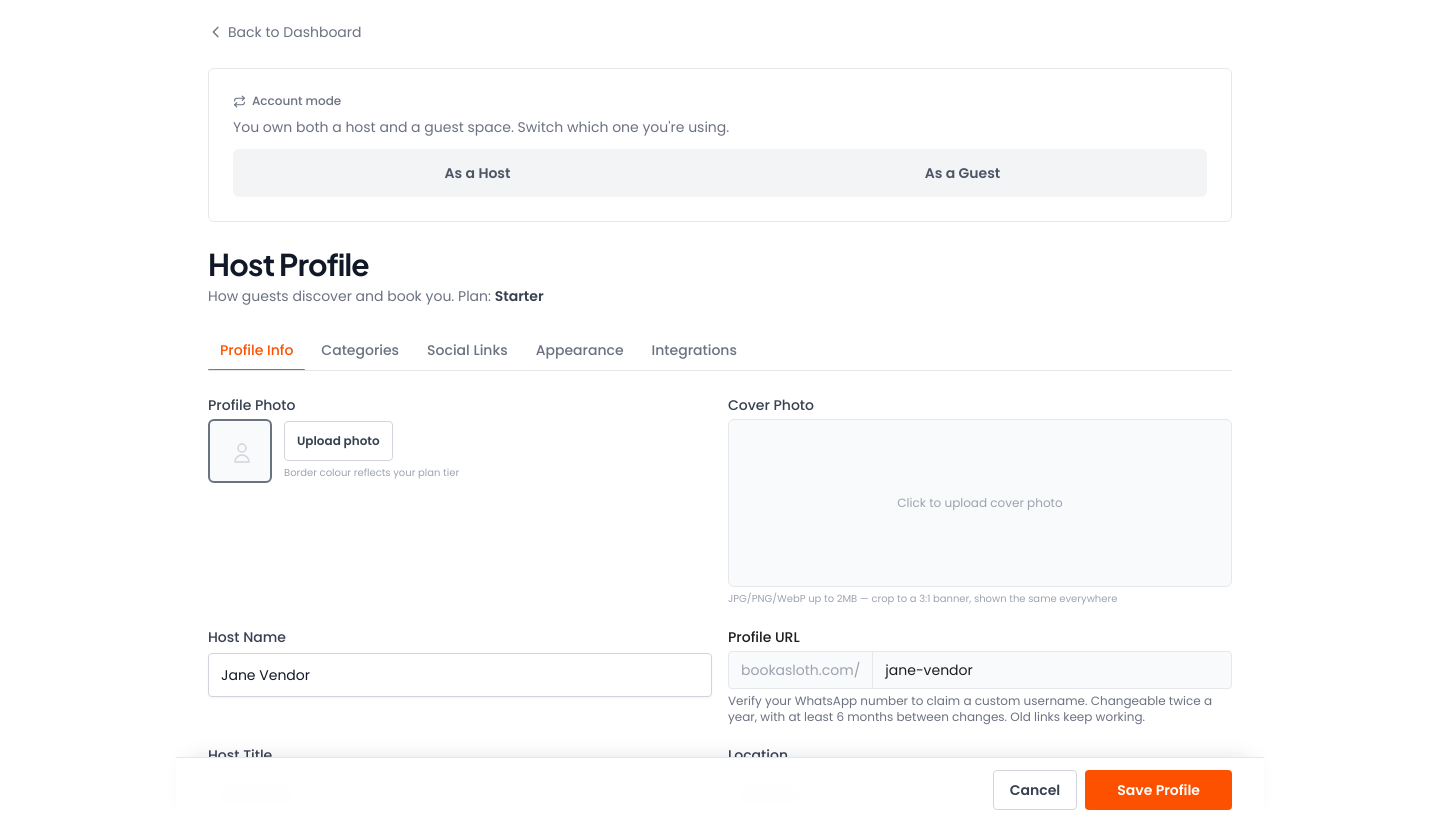
ProfileSetup — tab navigation › clicking Integrations tab shows Google Calendar section
Click the tab "Integrations".
click(694, 350)  # box [640, 330, 749, 370]
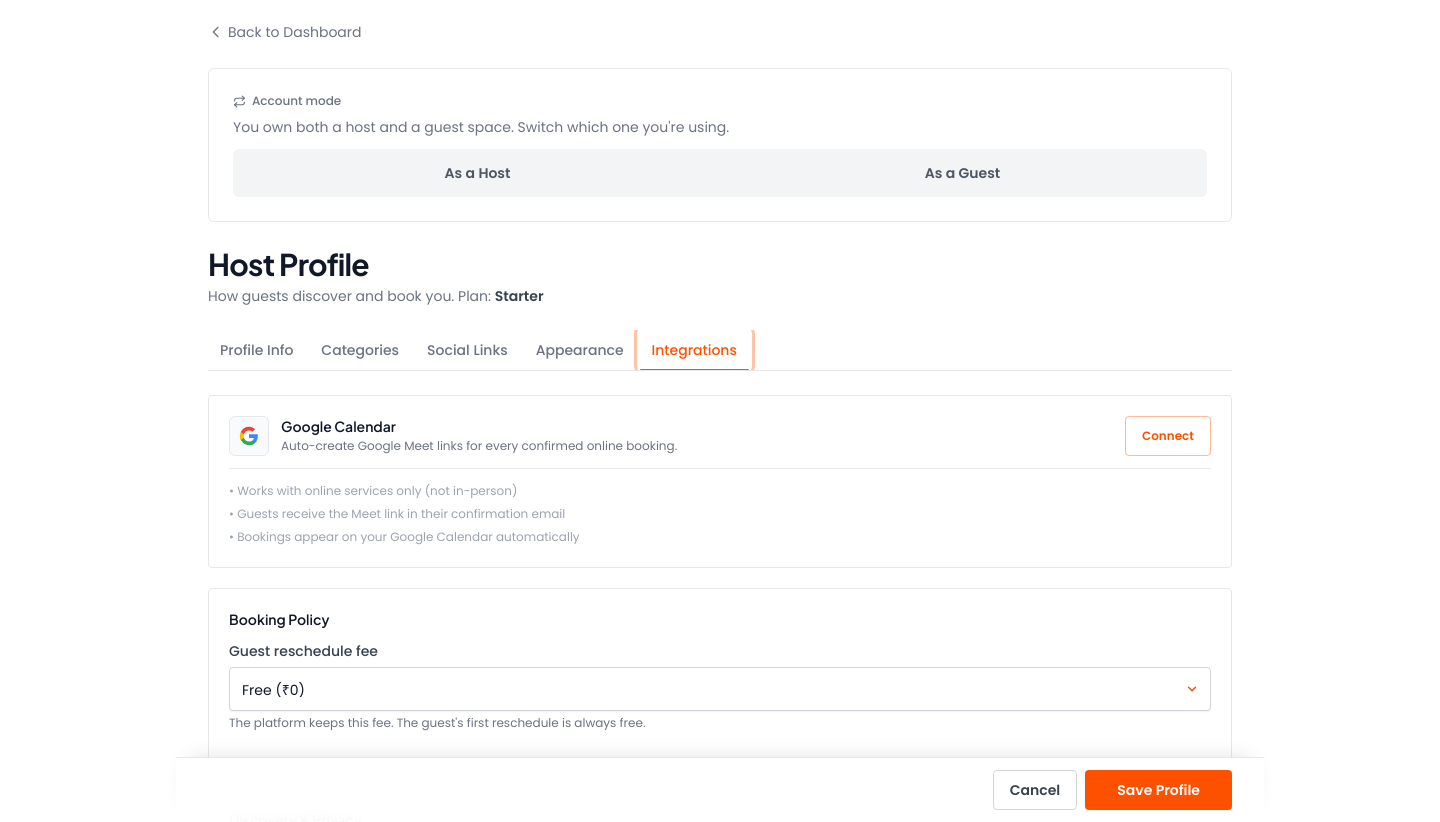
Expected: the heading "Google Calendar" is shown, [281, 417, 396, 435]
